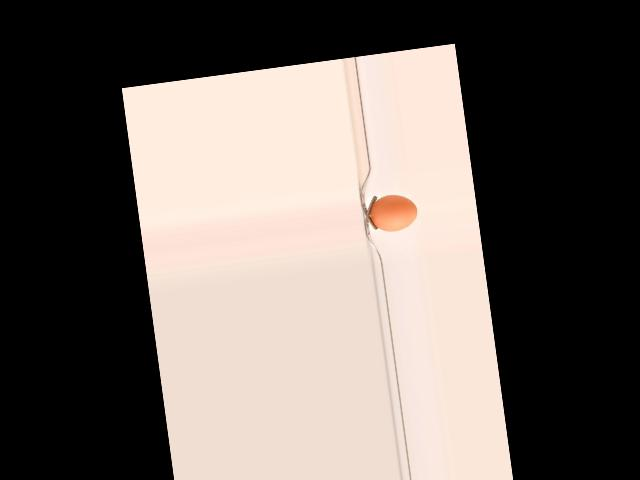egg: (368, 192, 419, 234)
